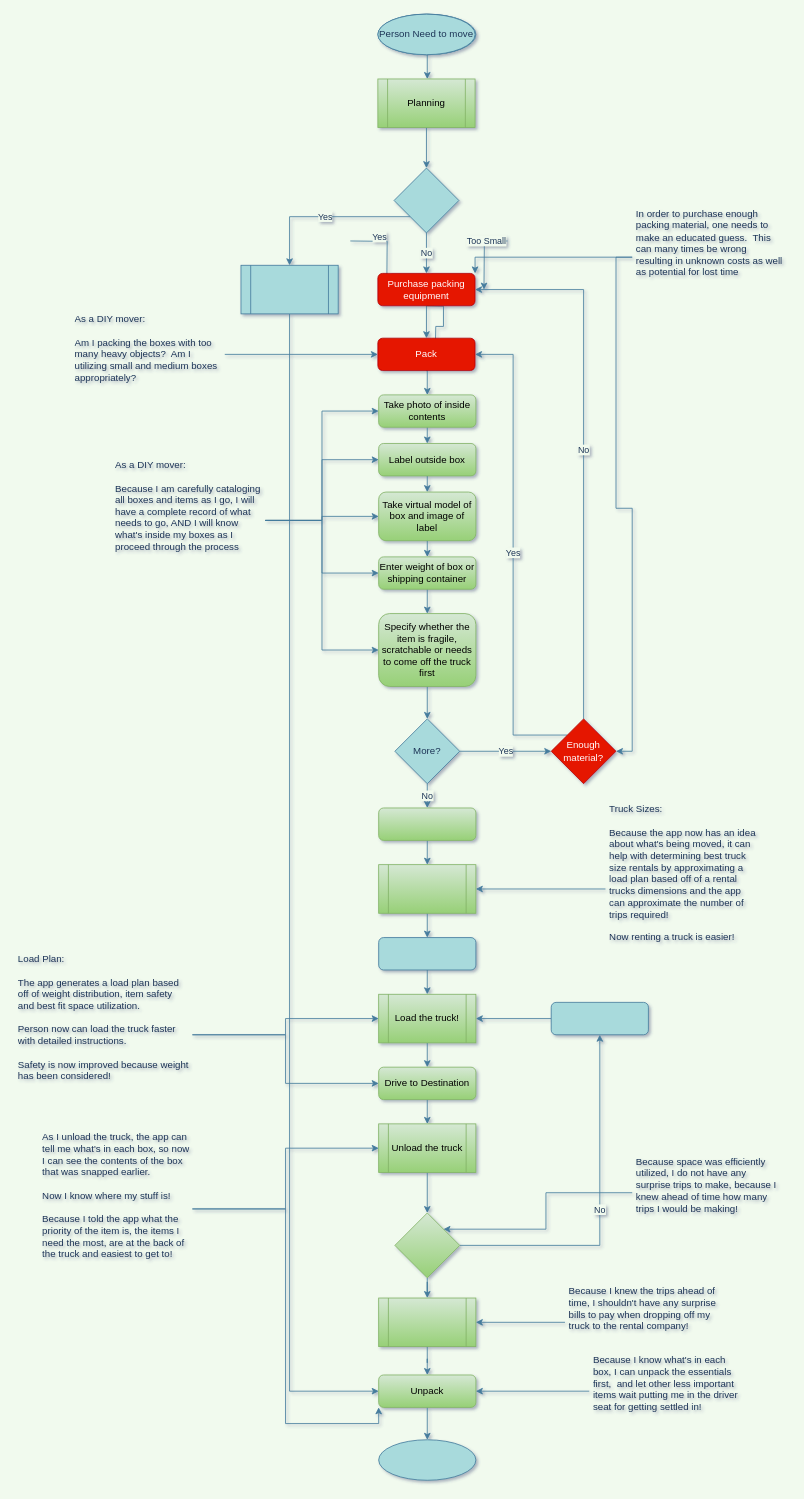
This 804x1499 diagram has some shape labels left out. Here are the shapes that lost their labels. From the top down, the centre of each, then its label:
(426,200): Hire it out?
(289,289): Professional Company Process
(427,823): Input all furniture into app
(427,888): Get Truck size estimates
(427,953): Rent Truck
(599,1018): Drive to origin
(427,1245): Is that everything?
(427,1322): Return the truck to rental place
(427,1459): End
